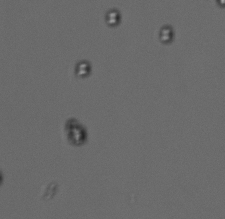Dead Cell: (64, 117, 87, 146)
Living Cell: (74, 59, 92, 77), (103, 9, 121, 27), (157, 24, 174, 43)
